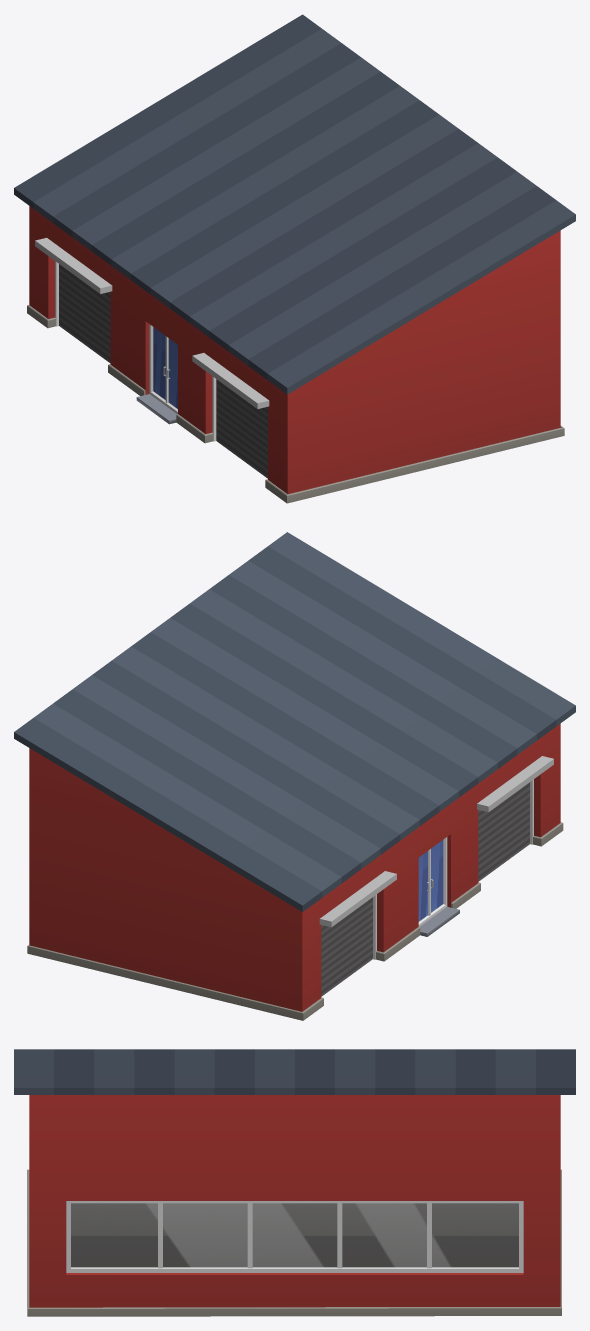
Rendered from Building_Factory_2_A.fbx.
3 renders of one model, top to bottom at view 1: azimuth 30°, elevation 25°; view 2: azimuth 150°, elevation 25°; view 3: azimuth 270°, elevation 25°, orthographic. The views are drawn at different scales.
Parts seen in each view (by area): view 1: Building_Factory_2_A; view 2: Building_Factory_2_A; view 3: Building_Factory_2_A.
Boxes of the visible parts, left/top/right/bottom form: Building_Factory_2_A: left=14, top=14, right=575, bottom=503; Building_Factory_2_A: left=14, top=532, right=575, bottom=1020; Building_Factory_2_A: left=14, top=1049, right=575, bottom=1316.
Bounding box in the file's own units: 910 × 669 × 1473.
